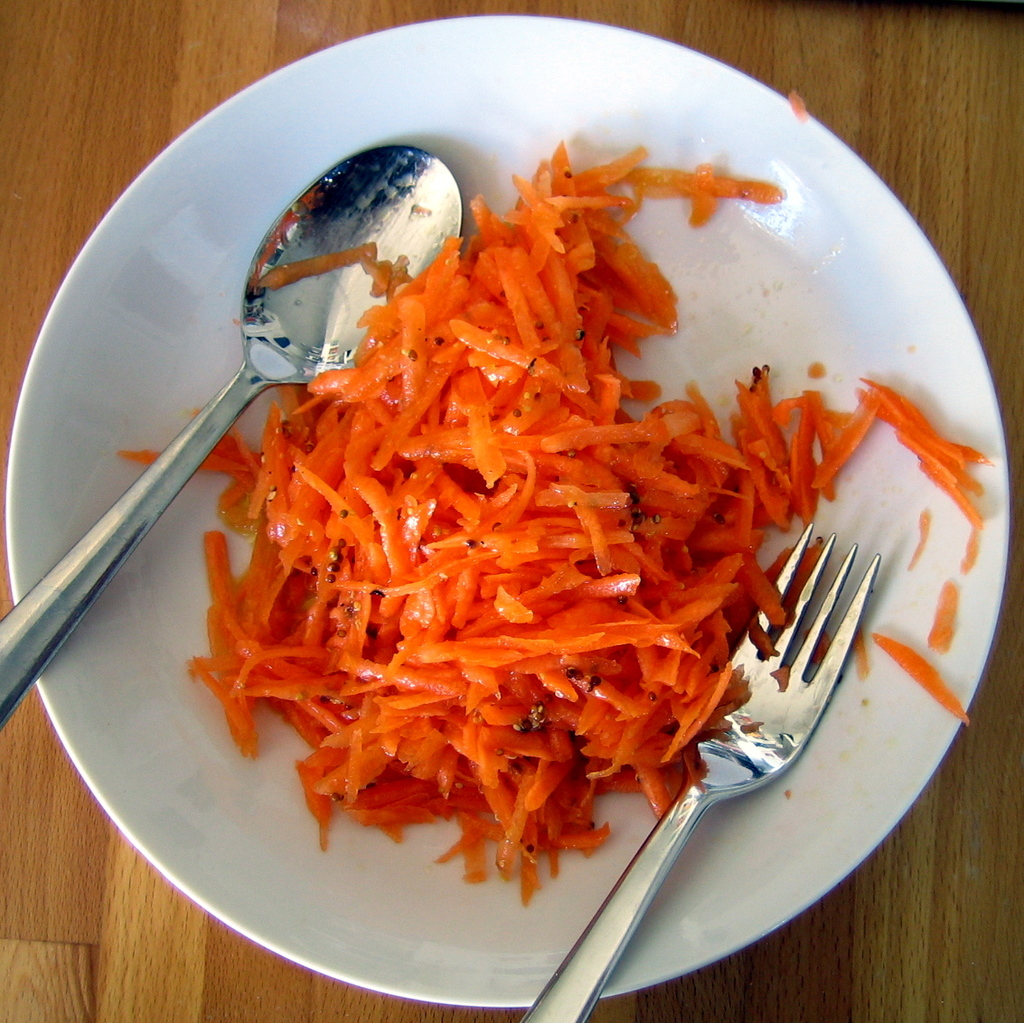Carrot: (119, 138, 997, 905)
